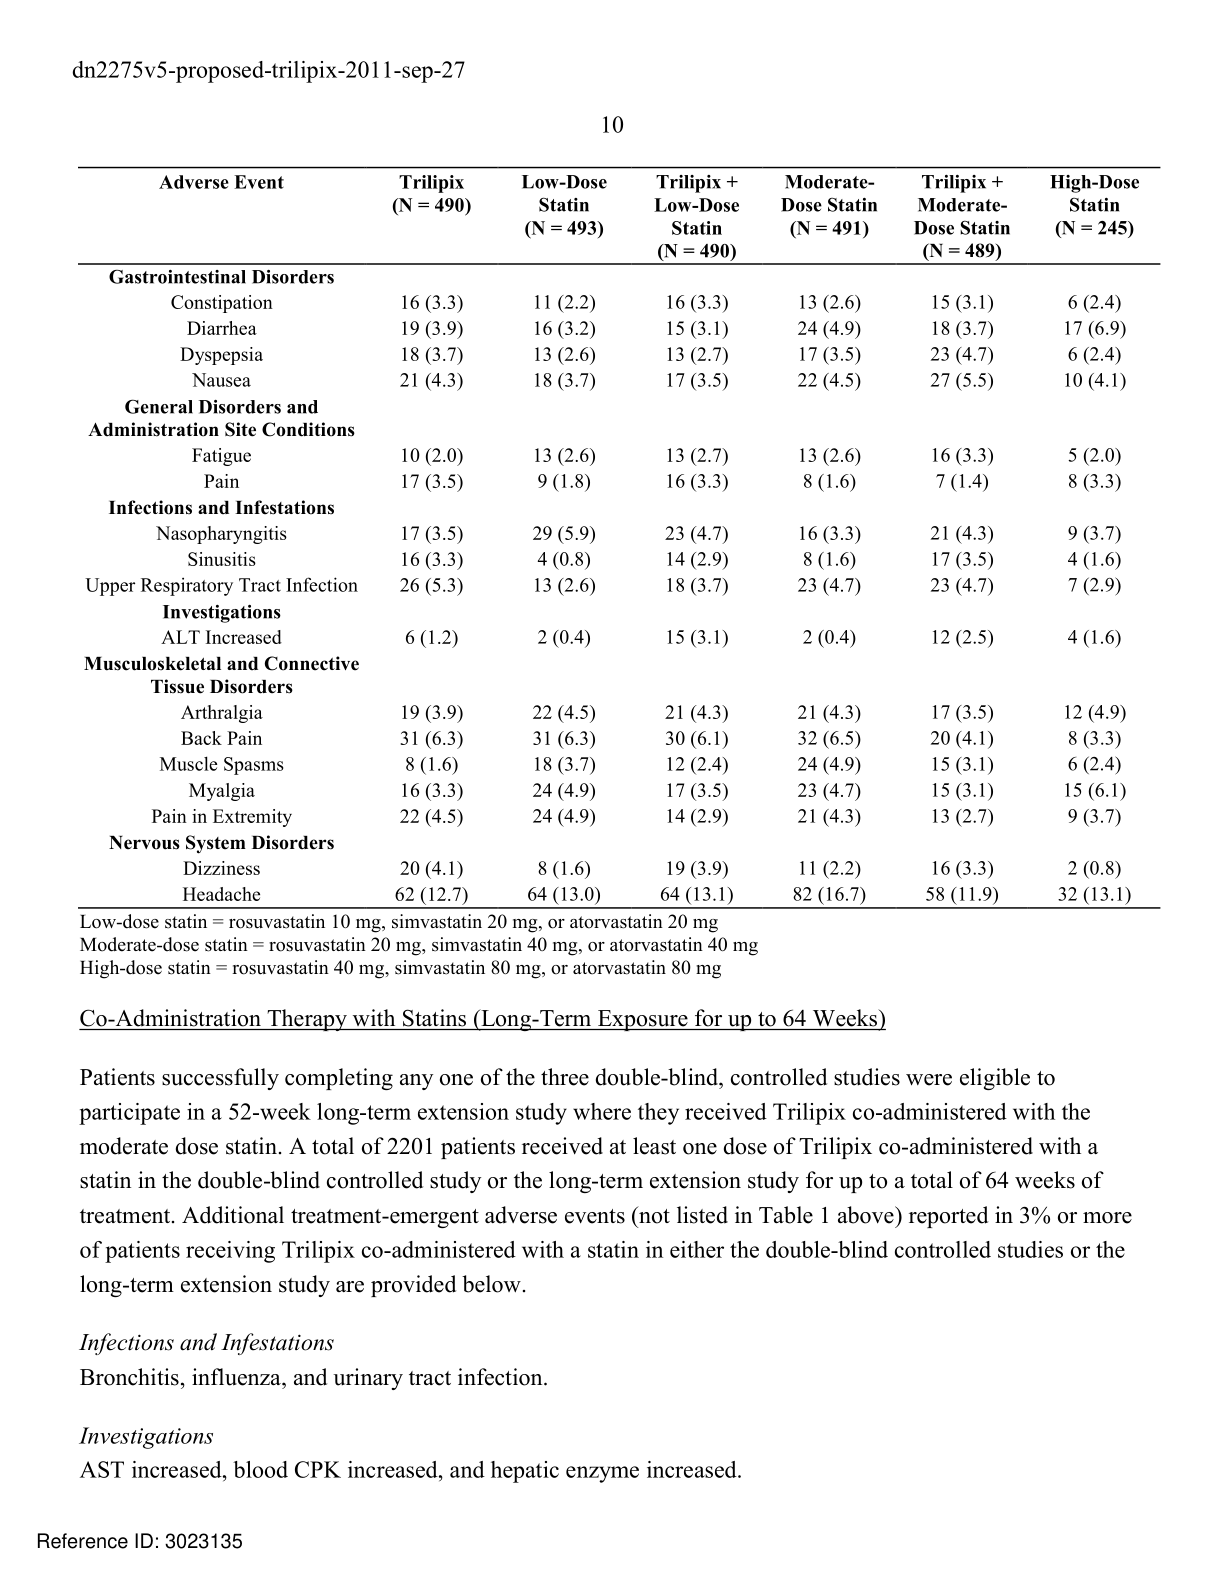partial_lined: (78, 165, 1164, 912)
